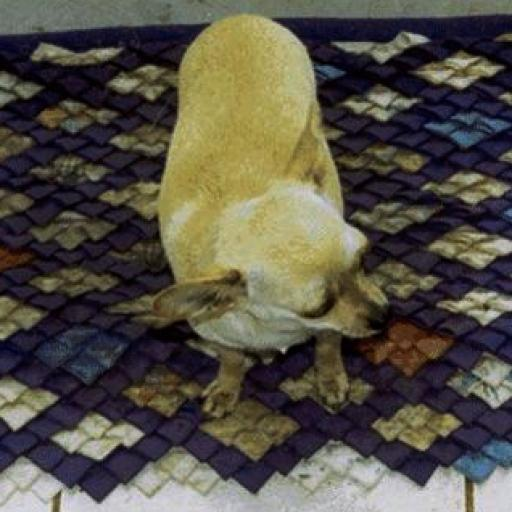dog_face: (169, 200, 414, 373)
